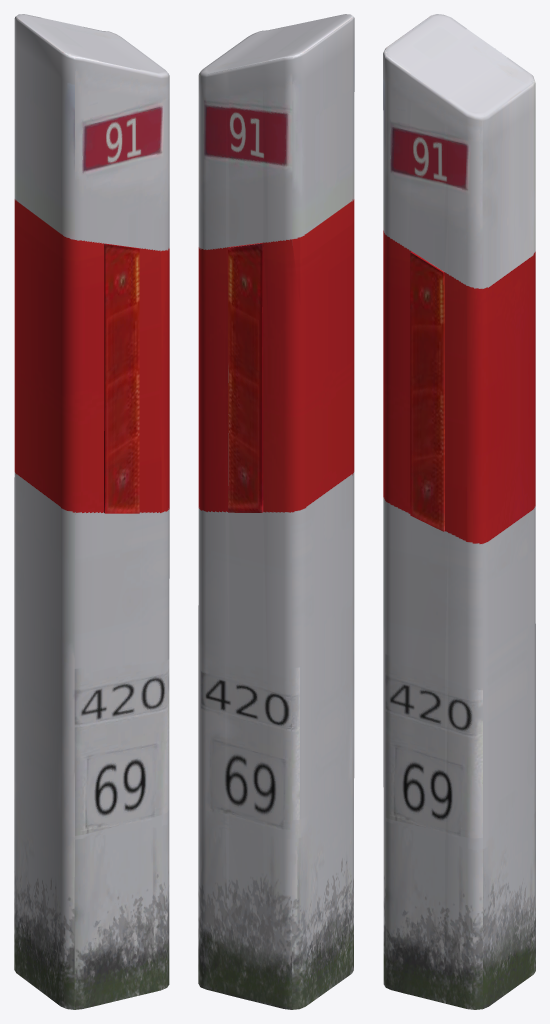
File: slupek.dae
3 views of the same model, side by side, from view 1: azimuth 30°, elevation 25°; view 2: azimuth 150°, elevation 25°; view 3: azimuth 330°, elevation 25° (orthographic). The views are drawn at different scales.
Visible parts, largest first — view 1: slupek_a65; view 2: slupek_a65; view 3: slupek_a65.
Boxes of the visible parts, x1,y1,x2,y2 form: slupek_a65: (14, 14, 169, 1009); slupek_a65: (198, 14, 354, 1009); slupek_a65: (383, 14, 535, 1009).
Bounding box in the file's own units: 0.0732 × 0.0759 × 0.6252.
1 material, 1 textured.
